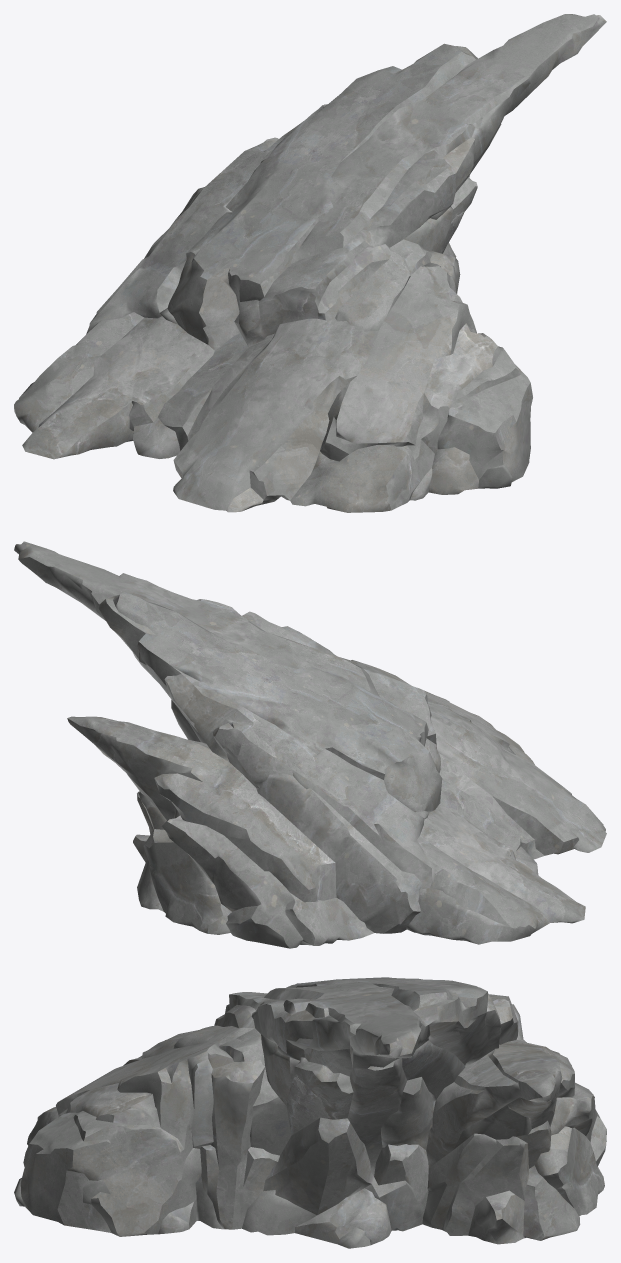
File: SM_Com_Roc_55AL.fbx
The picture shows the model from 3 angles, top to bottom: view 1: azimuth 30°, elevation 25°; view 2: azimuth 150°, elevation 25°; view 3: azimuth 270°, elevation 25°; orthographic projection. The views are drawn at different scales.
Parts seen in each view (by area): view 1: SM_Com_Roc_55AL.mo; view 2: SM_Com_Roc_55AL.mo; view 3: SM_Com_Roc_55AL.mo.
Boxes of the visible parts, <box> form: SM_Com_Roc_55AL.mo: <box>14,14,606,512</box>; SM_Com_Roc_55AL.mo: <box>14,541,606,948</box>; SM_Com_Roc_55AL.mo: <box>14,977,606,1248</box>.
Bounding box in the file's own units: 241 × 108 × 193.
